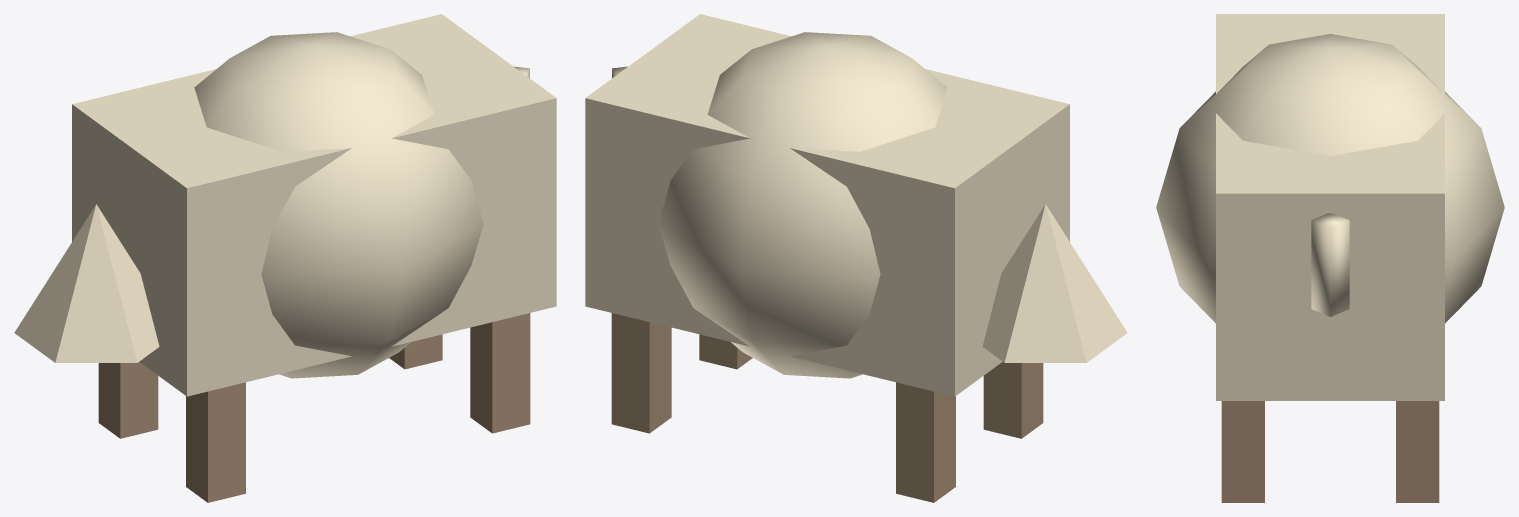
The model's file is pig.glb.
3 views of the same model, side by side, from view 1: azimuth 30°, elevation 25°; view 2: azimuth 150°, elevation 25°; view 3: azimuth 270°, elevation 25° (orthographic).
Parts seen in each view (by area): view 1: pig_pale, pig_hide-dark; view 2: pig_pale, pig_hide-dark; view 3: pig_pale, pig_hide-dark.
Part boxes in pixels (x1,y1,x2,y2): pig_pale: (14,14,556,396); pig_hide-dark: (98,313,530,502); pig_pale: (585,14,1127,396); pig_hide-dark: (611,313,1043,502); pig_pale: (1156,14,1504,400); pig_hide-dark: (1221,401,1439,502).
Bounding box in the file's own units: 0.3483 × 0.2533 × 0.2133.
